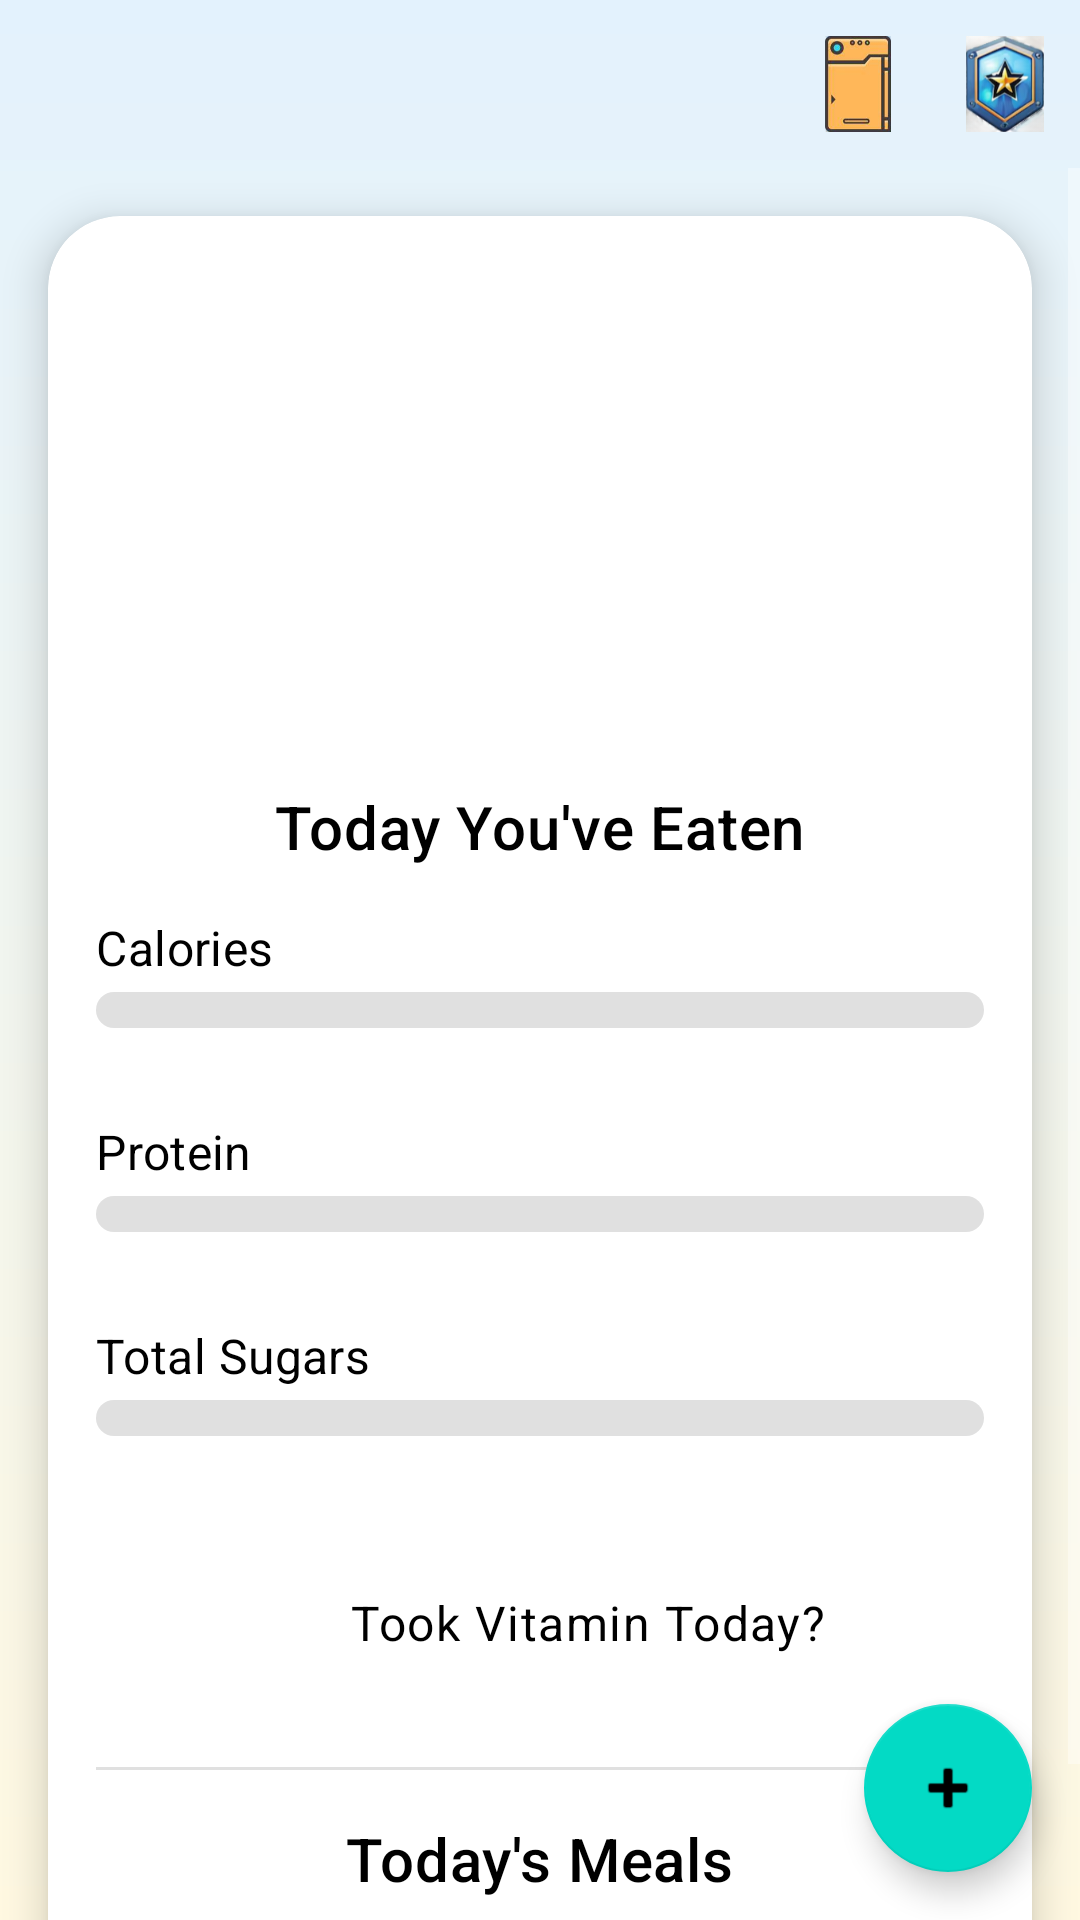

Icon click points for this 1080w x 1920h phone screenshot, format (x,y):
Log Meal: (948,1788)
